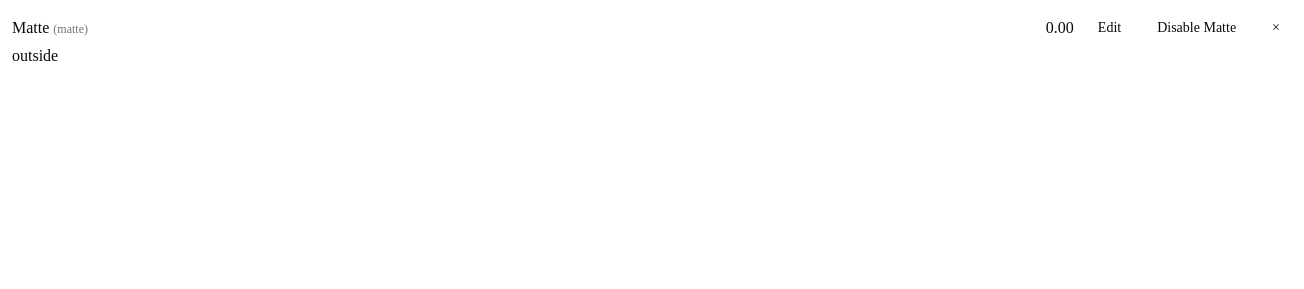
Test: ValueRow percentage pricing › explains a malformed percentage
The image size is (1304, 289).
Click the button with aria-label "Edit Matte" at (1109, 28), box [1086,12,1133,44]
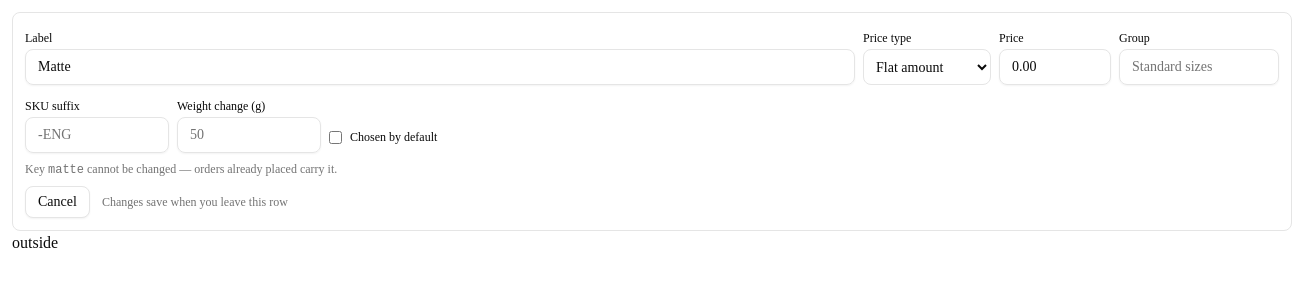
Select "Percentage" in the dropdown labelled "Price type" at (927, 67), box [863,49,991,85]
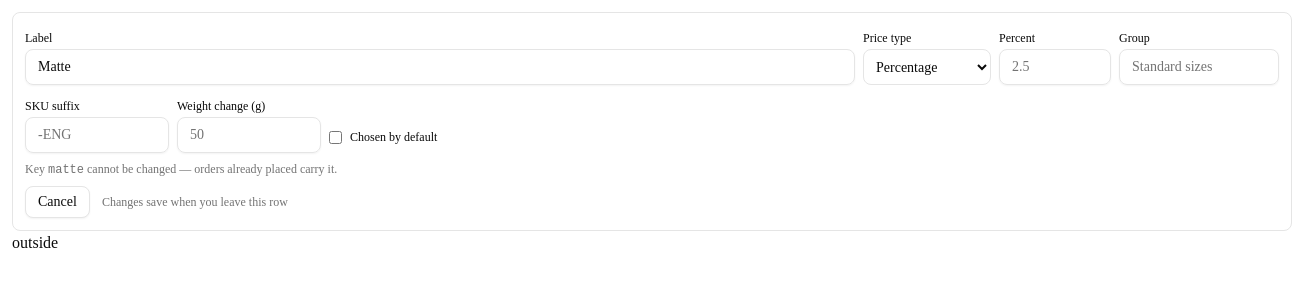
Type "lots" into the field labelled "Percent" at (1055, 67), box [999,49,1111,85]
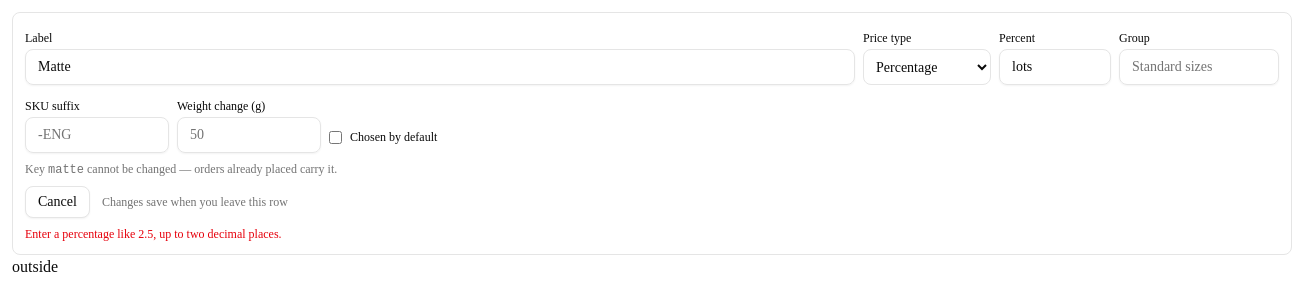
Result: the text "Enter a percentage like 2.5, up to two decimal places." is shown at [25,227,282,241]
